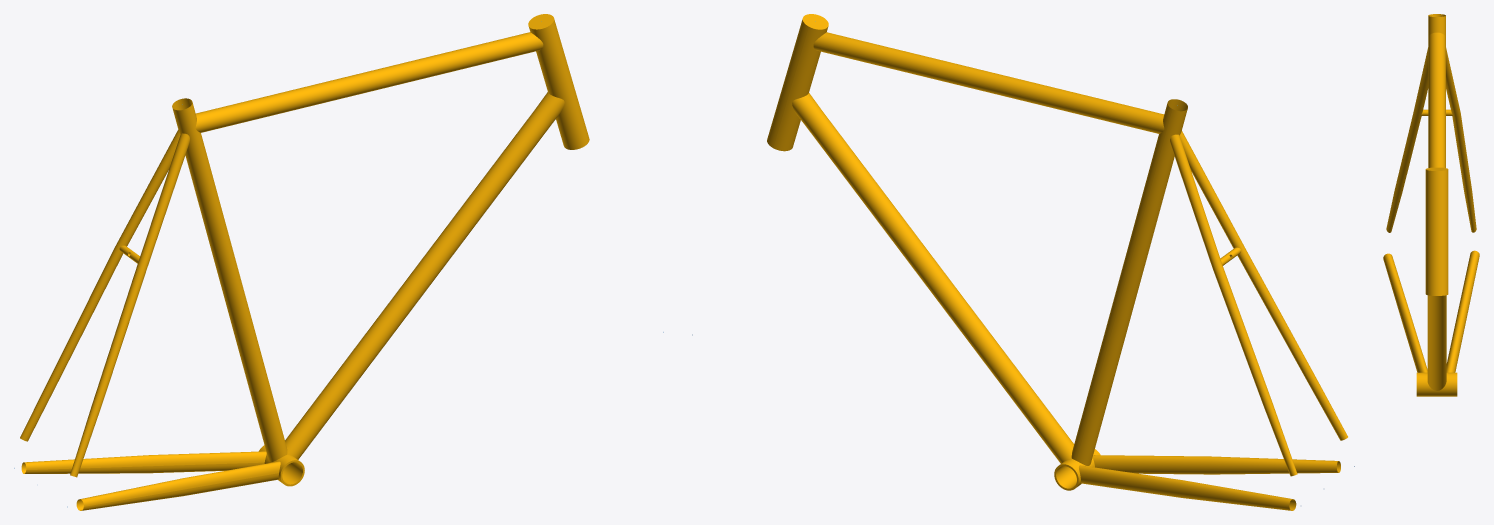
File: bikeFrame2_og.glb
3 renders of one model, left to right at view 1: azimuth 30°, elevation 25°; view 2: azimuth 150°, elevation 25°; view 3: azimuth 270°, elevation 25°, orthographic. The views are drawn at different scales.
Parts seen in each view (by area): view 1: no_transformations; view 2: no_transformations; view 3: no_transformations.
Part boxes in pixels (x1,y1,x2,y2): no_transformations: (14, 14, 663, 510); no_transformations: (692, 14, 1354, 510); no_transformations: (1383, 14, 1479, 396).
Size of the model in its own units: 1030 by 628 by 161.
